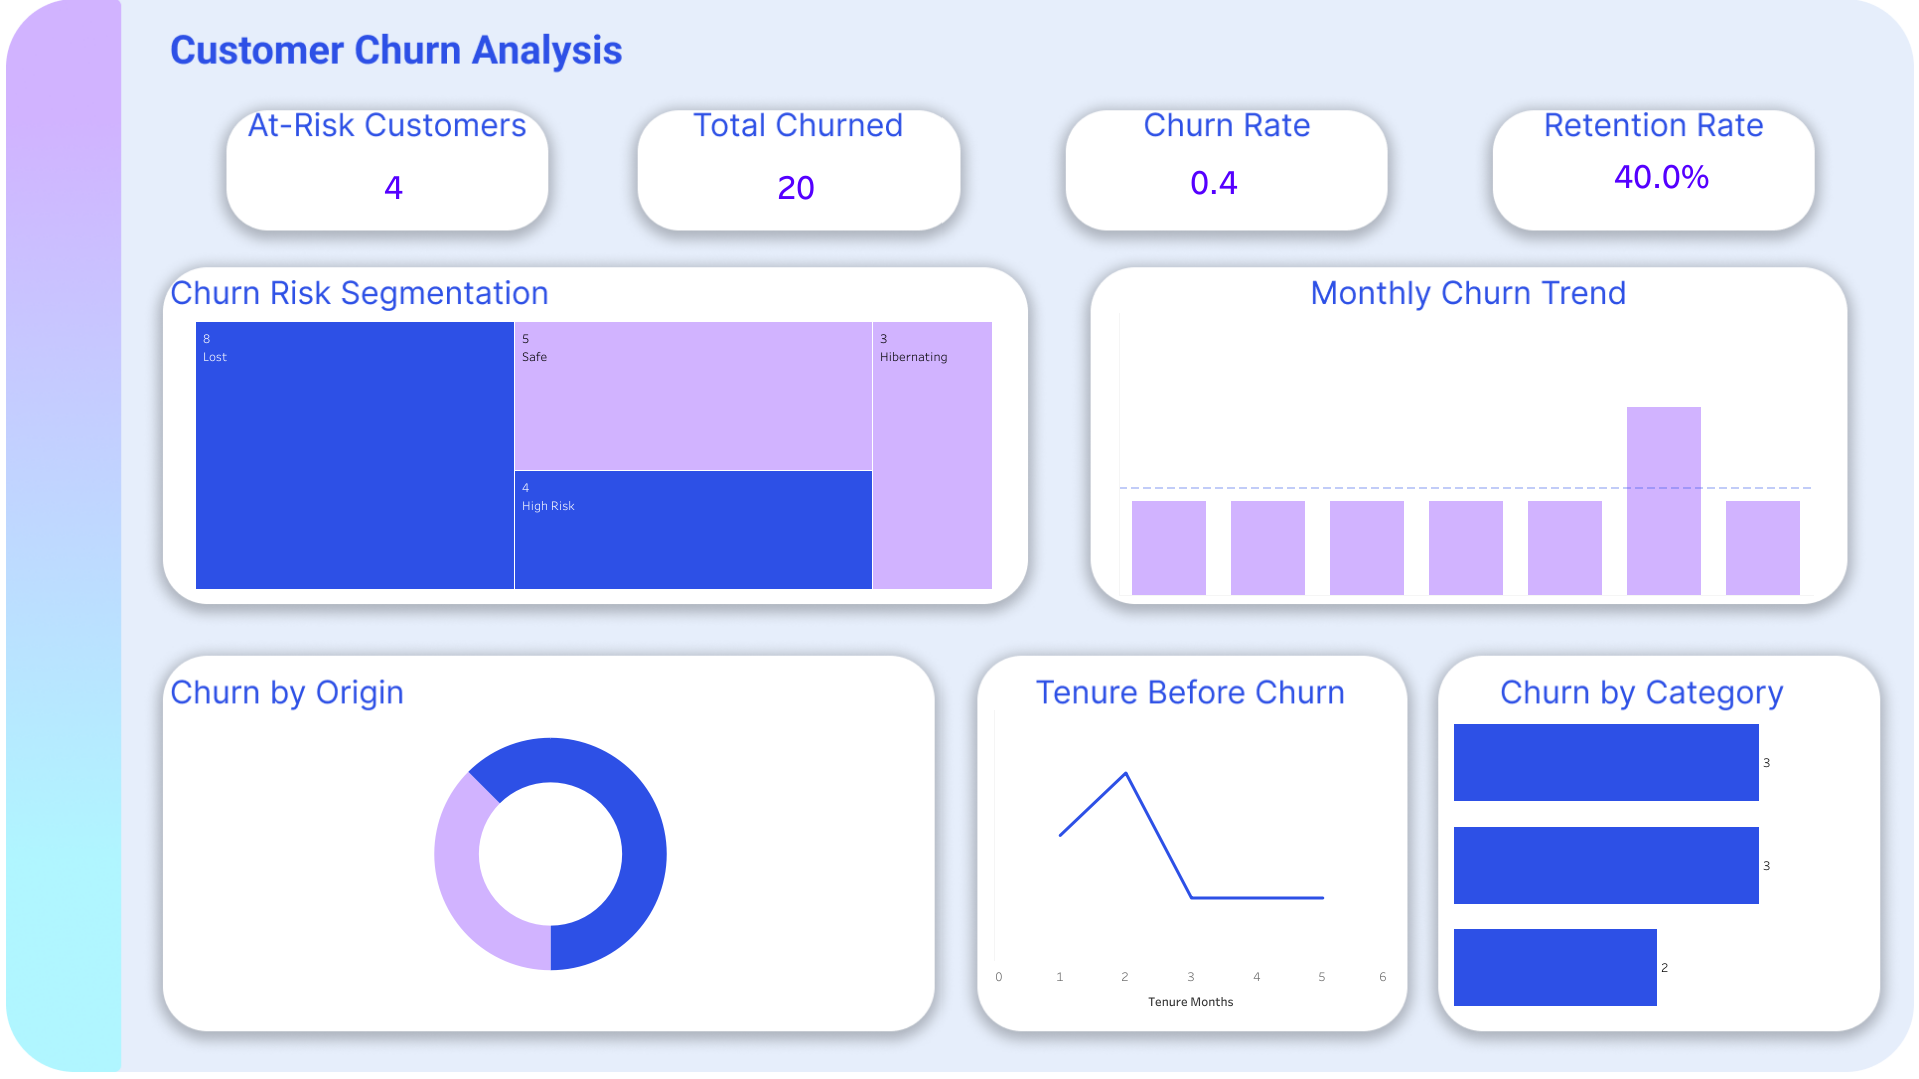

What the dashboard file says about the page in this screenshot:
{"tool":"tableau","page":{"name":"Dashboard 1","canvas":[1920,1080],"ordinal":0},"visuals":[{"type":"worksheet","title":"KPI - Retention Rate","mark":"Automatic","box":[1594,153,140,70]},{"type":"worksheet","title":"KPI - Churn Rate","mark":"Automatic","box":[1182,155,112,67]},{"type":"worksheet","title":"KPI - At Risk","mark":"Automatic","box":[351,158,57,57]},{"type":"worksheet","title":"KPI - Total Churned","mark":"Automatic","box":[763,158,57,57]},{"type":"worksheet","title":"Monthly Churn Trend","mark":"Bar","rows":["CustomerID"],"cols":["Churn_Month"],"box":[1119,313,694,282]},{"type":"worksheet","title":"Segment Treemap","mark":"Automatic","box":[191,317,806,276]},{"type":"worksheet","title":"Churn by Origin","mark":"Pie","rows":["Calculation_1154784893235201","Calculation_1154784893251587"],"box":[196,695,709,318]},{"type":"worksheet","title":"Tenure Before Churn","mark":"Automatic","rows":["CustomerID"],"cols":["Tenure_Months"],"box":[994,710,394,307]},{"type":"worksheet","title":"Churn by Category","mark":"Automatic","rows":["Product_Category"],"cols":["CustomerID"],"box":[1454,711,406,308]}]}

Visuals, with their boxes in screenshot pixels (x1, y1, x2, y2), scaled from the page's 1920x1080 canvas onto the 1919x1079 screenshot:
"KPI - Retention Rate" worksheet: box=[1593, 153, 1733, 223]
"KPI - Churn Rate" worksheet: box=[1181, 155, 1293, 222]
"KPI - At Risk" worksheet: box=[351, 158, 408, 215]
"KPI - Total Churned" worksheet: box=[763, 158, 820, 215]
"Monthly Churn Trend" worksheet (Bar marks): box=[1118, 313, 1812, 594]
"Segment Treemap" worksheet: box=[191, 317, 996, 592]
"Churn by Origin" worksheet (Pie marks): box=[196, 694, 905, 1012]
"Tenure Before Churn" worksheet: box=[993, 709, 1387, 1016]
"Churn by Category" worksheet: box=[1453, 710, 1859, 1018]
